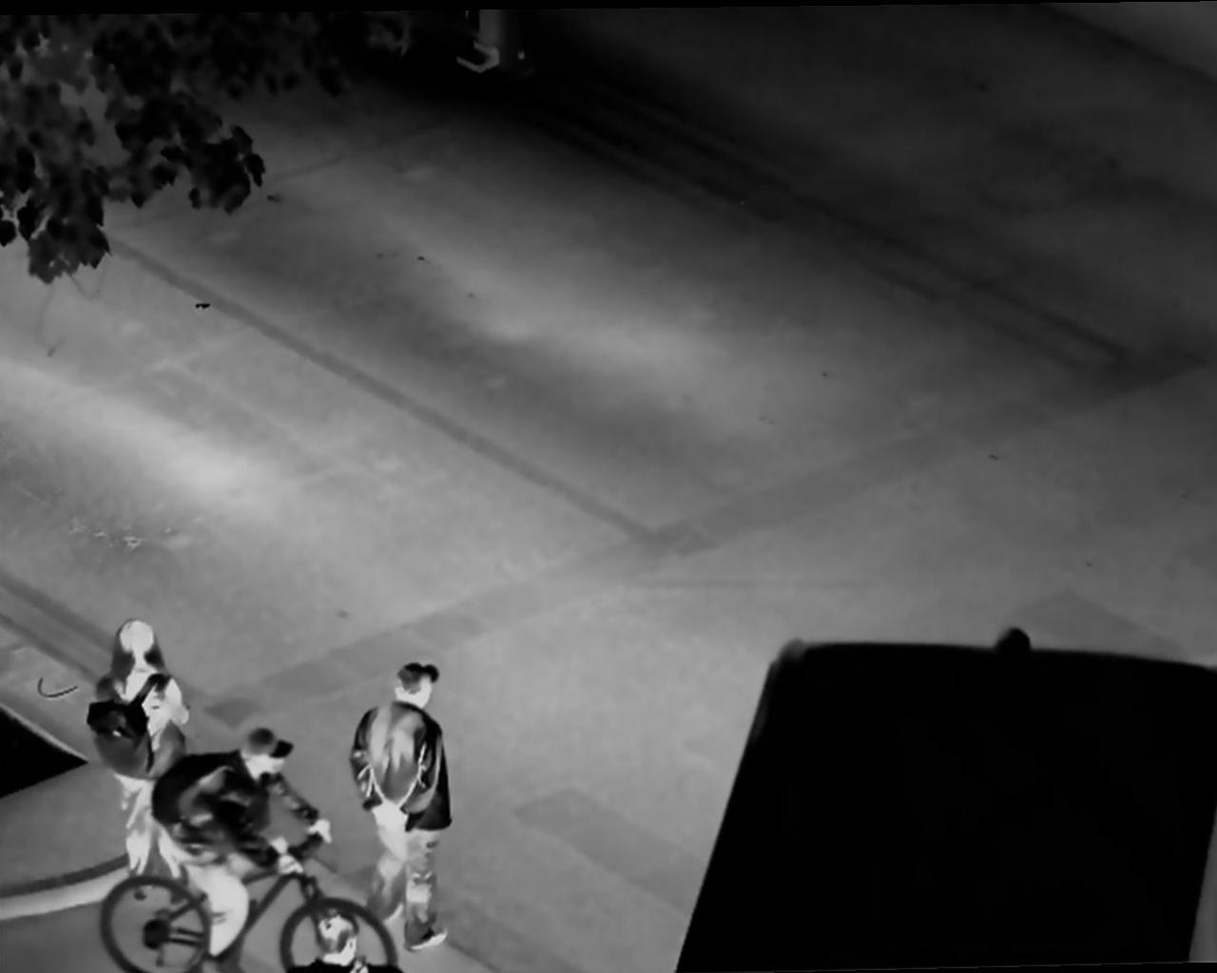person: (342, 658, 467, 950), (155, 730, 301, 973), (86, 603, 190, 868), (283, 906, 381, 973)
